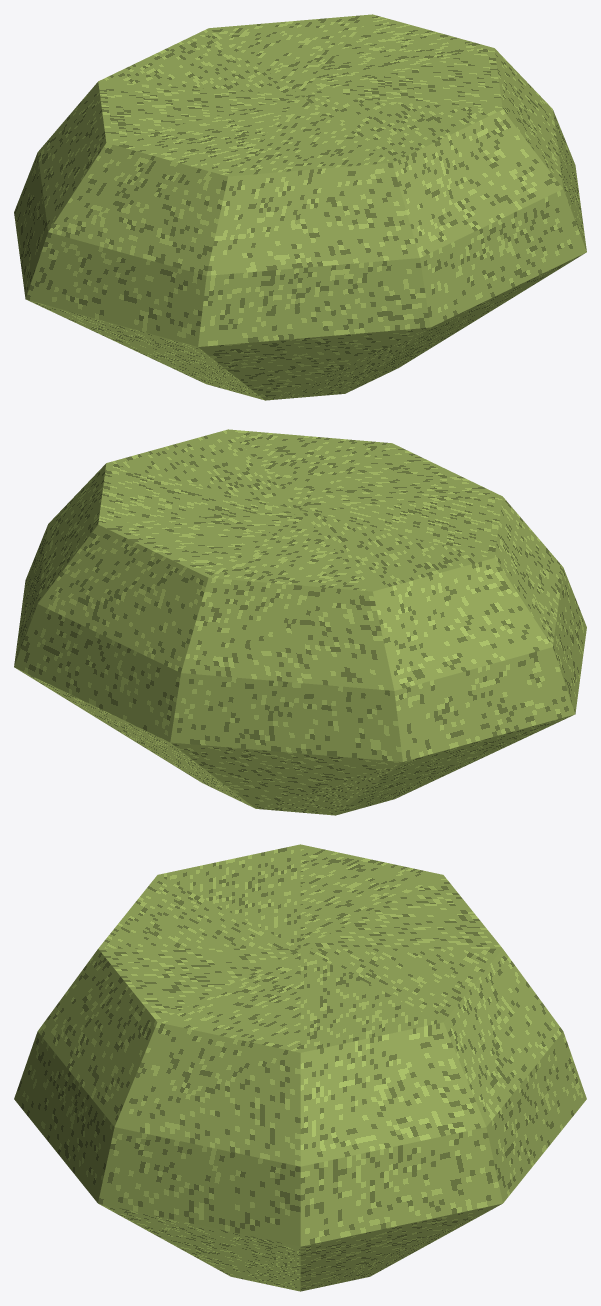
Rendered from peridot.glb.
3 views of the same model, one above another, from view 1: azimuth 30°, elevation 25°; view 2: azimuth 150°, elevation 25°; view 3: azimuth 270°, elevation 25° (orthographic). The views are drawn at different scales.
Parts seen in each view (by area): view 1: block_faceted cut stone; view 2: block_faceted cut stone; view 3: block_faceted cut stone.
Boxes of the visible parts, x1,y1,x2,y2 form: block_faceted cut stone: [14, 14, 586, 400]; block_faceted cut stone: [14, 429, 586, 815]; block_faceted cut stone: [14, 844, 586, 1291].
Bounding box in the file's own units: 0.0505 × 0.0246 × 0.0414.
1 material, 1 textured.
